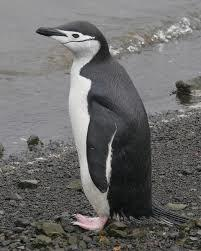chinstrap: (18, 7, 188, 239)
